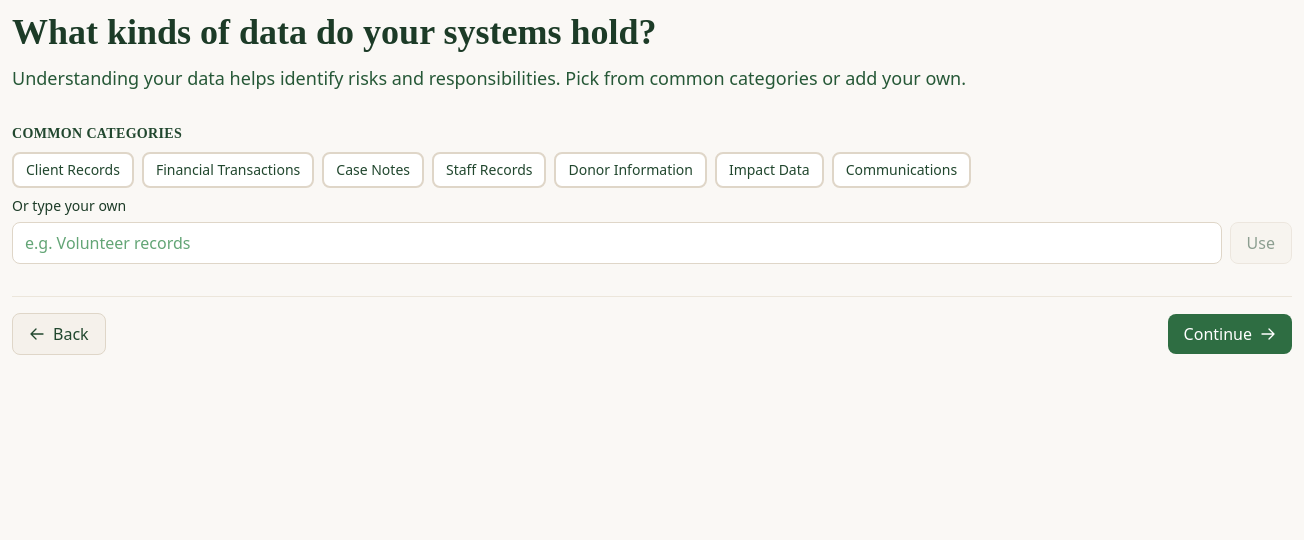
Test case: DataForm › shows configuration form when a common category is clicked
This screenshot has width=1304, height=540.
Click the button "Client Records": (73, 170) [12, 152, 134, 188]
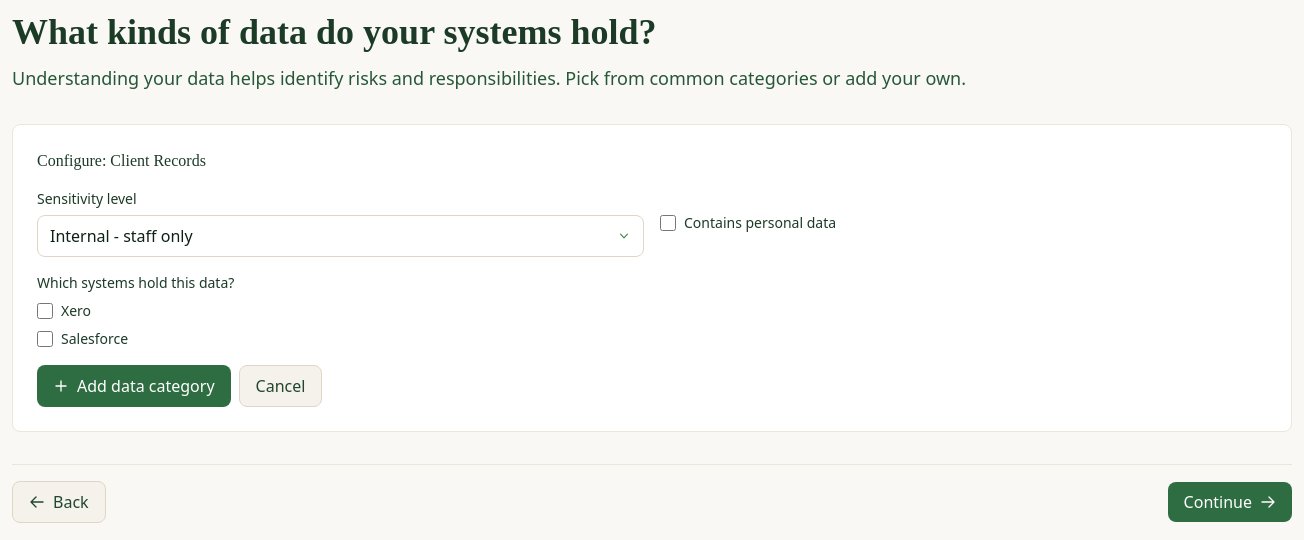
Now the heading "Configure: Client Records" is shown, box [37, 152, 206, 169]
Now the dropdown labelled "Sensitivity level" is shown, box [37, 215, 644, 257]
